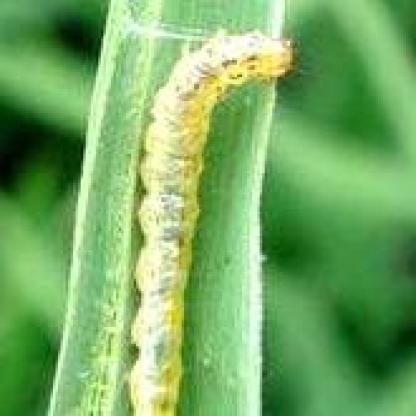leaf-folder: (99, 19, 318, 416)
